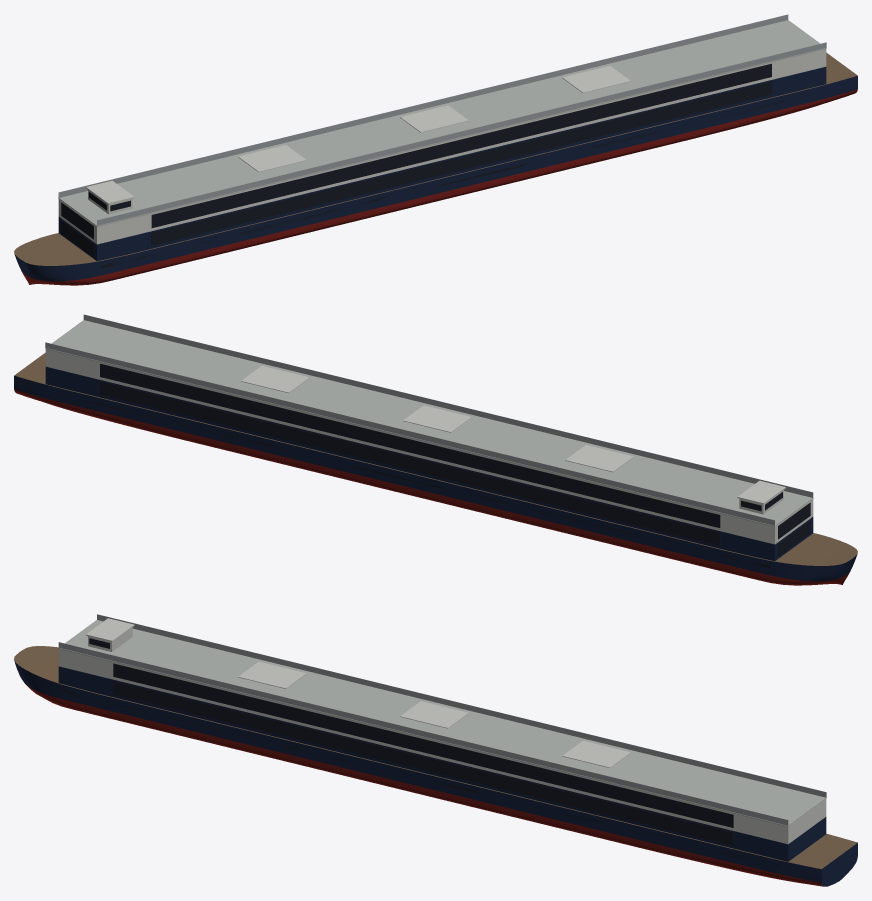
File: river_cruise.glb
3 renders of one model, top to bottom at view 1: azimuth 30°, elevation 25°; view 2: azimuth 150°, elevation 25°; view 3: azimuth 330°, elevation 25°, orthographic.
Parts seen in each view (by area): view 1: river_cruise; view 2: river_cruise; view 3: river_cruise.
Boxes of the visible parts, left/top/right/bottom form: river_cruise: left=14, top=14, right=857, bottom=285; river_cruise: left=14, top=314, right=857, bottom=585; river_cruise: left=14, top=614, right=857, bottom=886.
Bounding box in the file's own units: 137 × 11.69 × 11.39.
